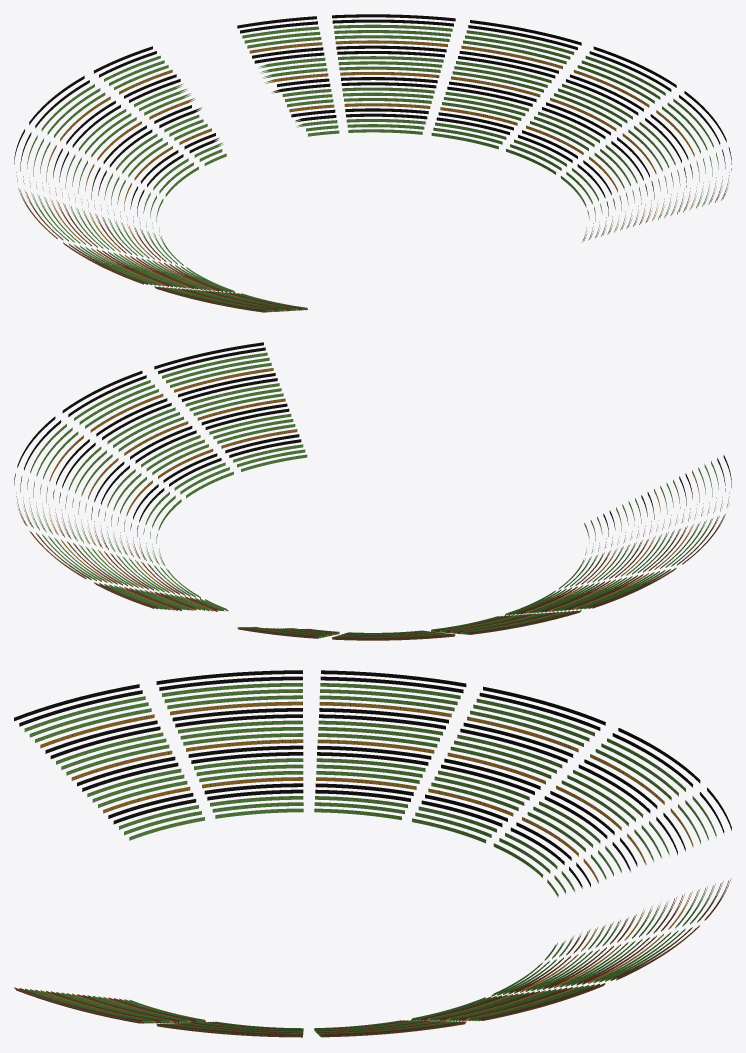
Rendered from mwm_seats.glb.
3 renders of one model, top to bottom at view 1: azimuth 30°, elevation 25°; view 2: azimuth 150°, elevation 25°; view 3: azimuth 270°, elevation 25°, orthographic. The views are drawn at different scales.
Parts seen in each view (by area): view 1: mwx_seats; view 2: mwx_seats; view 3: mwx_seats.
Part boxes in pixels (<box>): mwx_seats: <box>14,14,731,312</box>; mwx_seats: <box>14,342,731,640</box>; mwx_seats: <box>14,670,731,1037</box>.
Bounding box in the file's own units: 194 × 17.29 × 161.
Materials: 3 (3 with a texture image).
